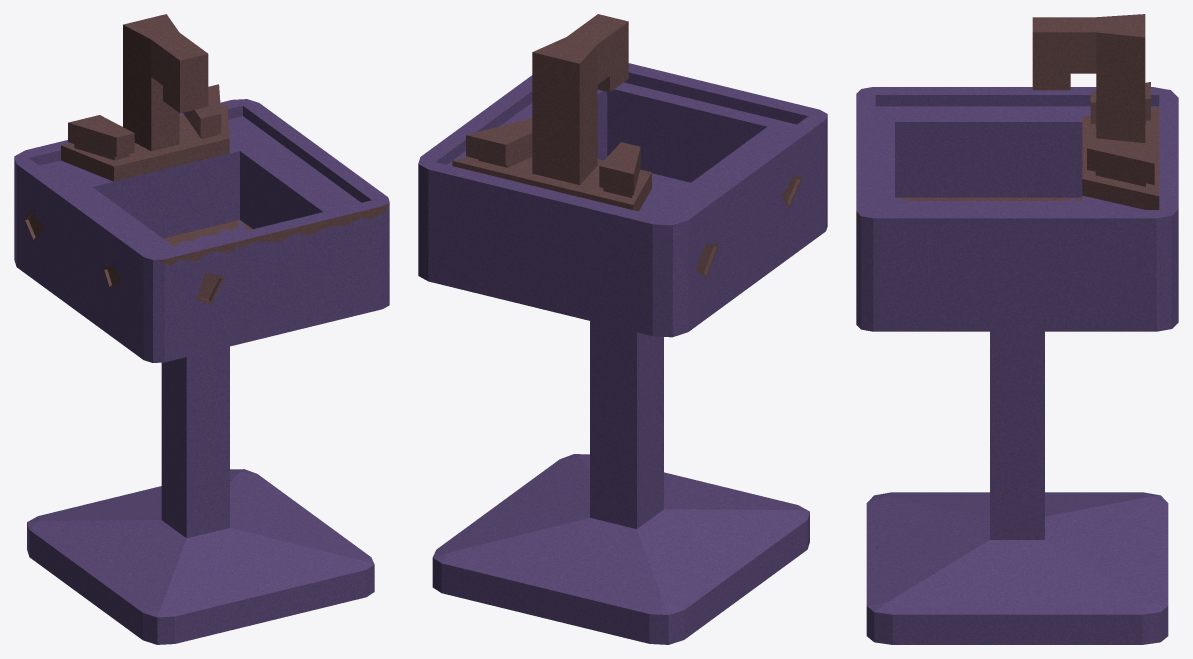
The model's file is CLSink.fbx.
3 renders of one model, left to right at view 1: azimuth 30°, elevation 25°; view 2: azimuth 150°, elevation 25°; view 3: azimuth 270°, elevation 25°, orthographic. The views are drawn at different scales.
Visible parts, largest first — view 1: Sink.002; view 2: Sink.002; view 3: Sink.002.
Part boxes in pixels (x1=…): Sink.002: x1=14, y1=14, x2=389, y2=644; Sink.002: x1=418, y1=14, x2=827, y2=644; Sink.002: x1=856, y1=14, x2=1178, y2=644.
Size of the model in its own units: 58.35 by 116 by 60.53.
